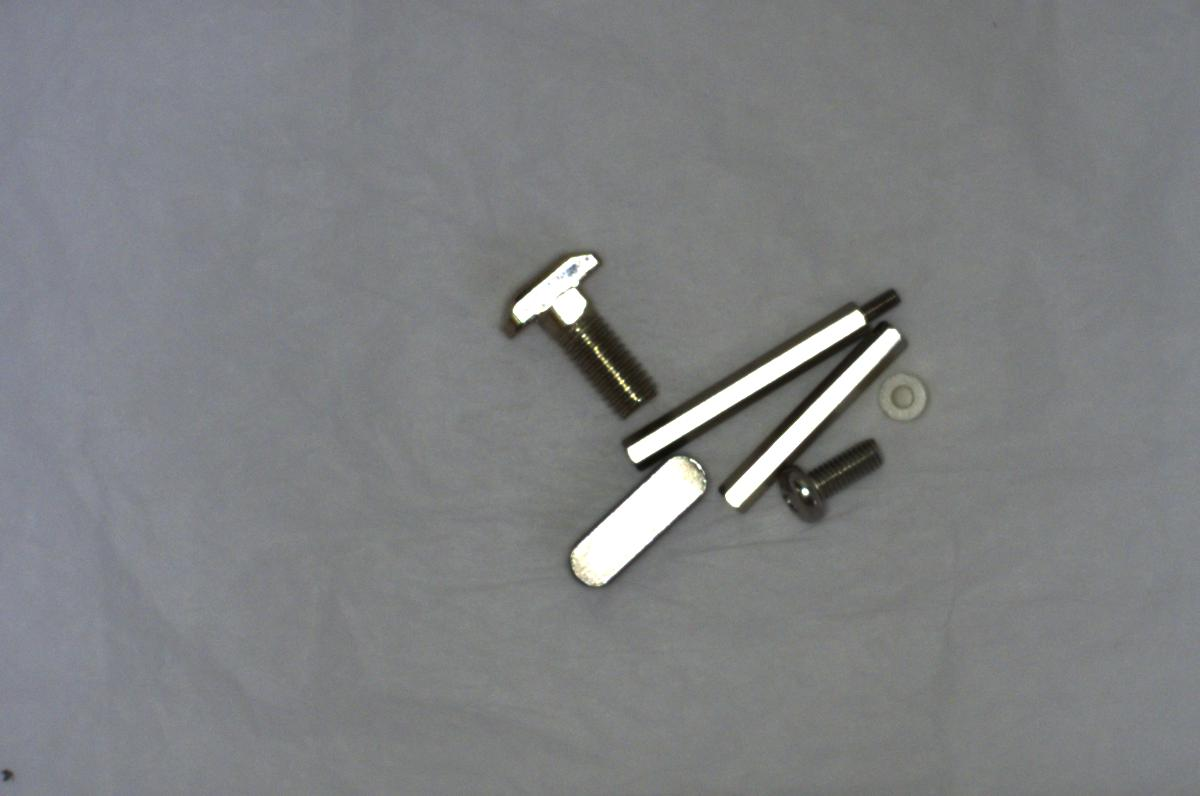Double hexagonal column: (714, 324, 908, 519)
Hexagonal steel column: (619, 280, 906, 471)
Keybar: (567, 456, 707, 595)
Plastic cushion pillar: (876, 365, 935, 426)
Round head screw: (782, 435, 888, 523)
T-shaped screw: (494, 246, 657, 419)
